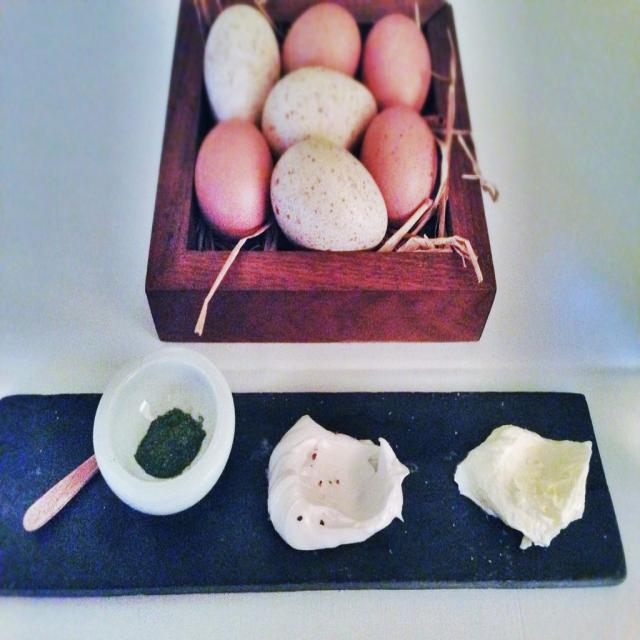Egg: (192, 2, 440, 248), (268, 137, 388, 251), (194, 118, 272, 232), (360, 106, 438, 218)
